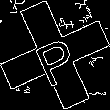P_NW: (28, 25, 82, 85)
